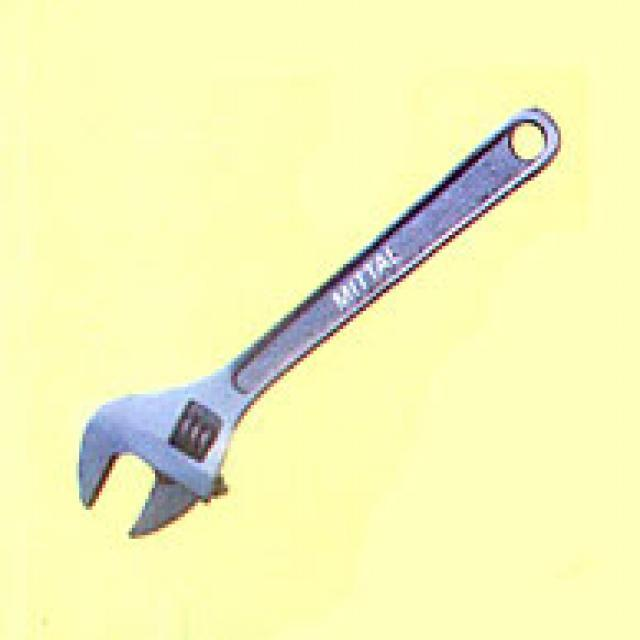wrench: (70, 98, 570, 544)
